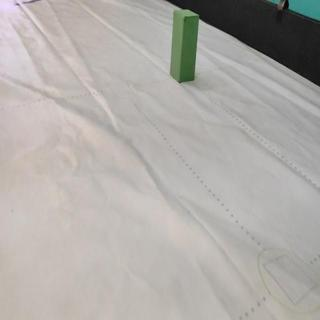greenbox: (168, 7, 199, 83)
